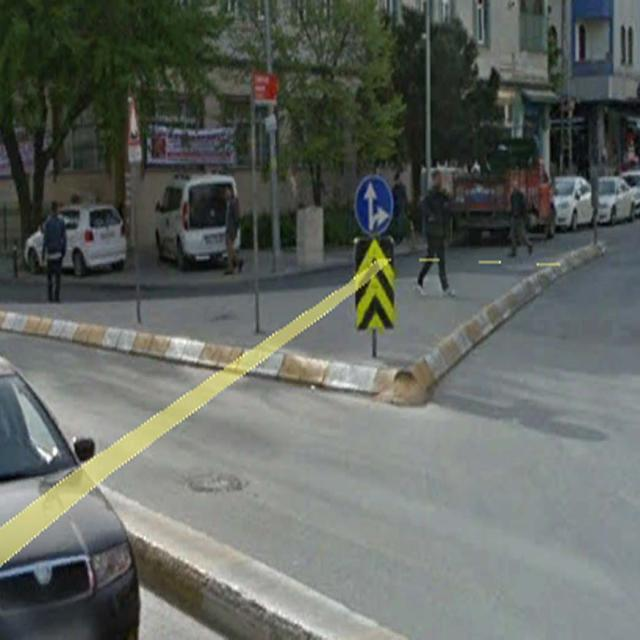ilerisag: (354, 175, 393, 233)
